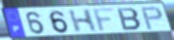6: (48, 10, 70, 35), (25, 11, 46, 35)
B: (116, 7, 143, 31)
F: (92, 7, 116, 34)
H: (67, 8, 98, 34)
P: (140, 6, 165, 31)
